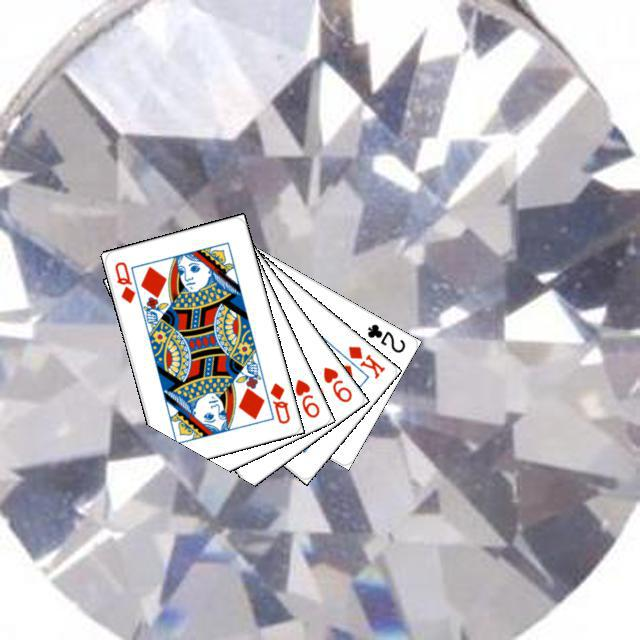2c: (362, 319, 407, 355)
9h: (318, 362, 354, 404), (290, 374, 321, 420)
Kd: (343, 341, 387, 381)
Qd: (265, 378, 292, 426), (110, 257, 137, 305)
